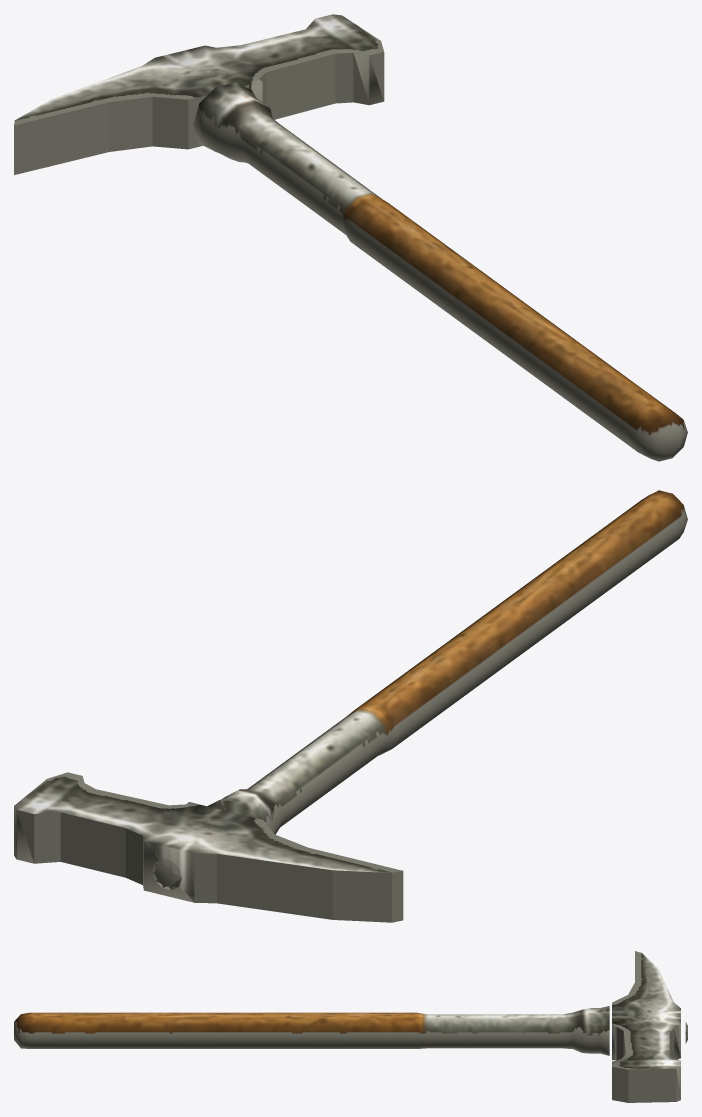
The model's file is item_mm9_10081.glb.
3 renders of one model, top to bottom at view 1: azimuth 30°, elevation 25°; view 2: azimuth 150°, elevation 25°; view 3: azimuth 270°, elevation 25°, orthographic. The views are drawn at different scales.
Visible parts, largest first — view 1: d10081; view 2: d10081; view 3: d10081.
Boxes of the visible parts, bbox=[...] form: d10081: bbox=[14, 14, 687, 461]; d10081: bbox=[14, 490, 687, 922]; d10081: bbox=[14, 951, 687, 1102].
Size of the model in its own units: 55.09 by 9.45 by 132.
1 material, 1 textured.
